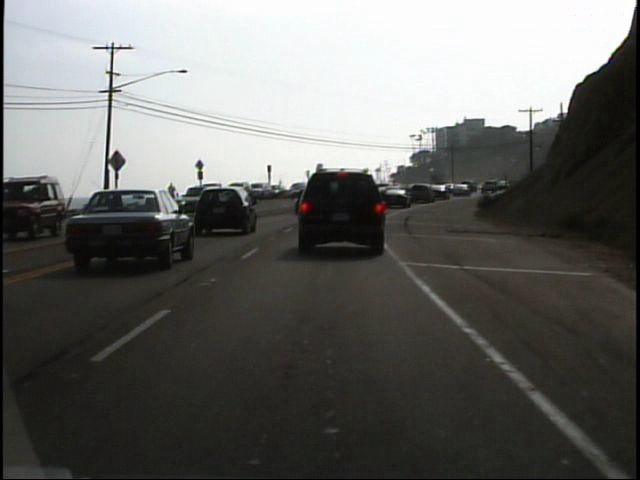person: (165, 180, 181, 207)
